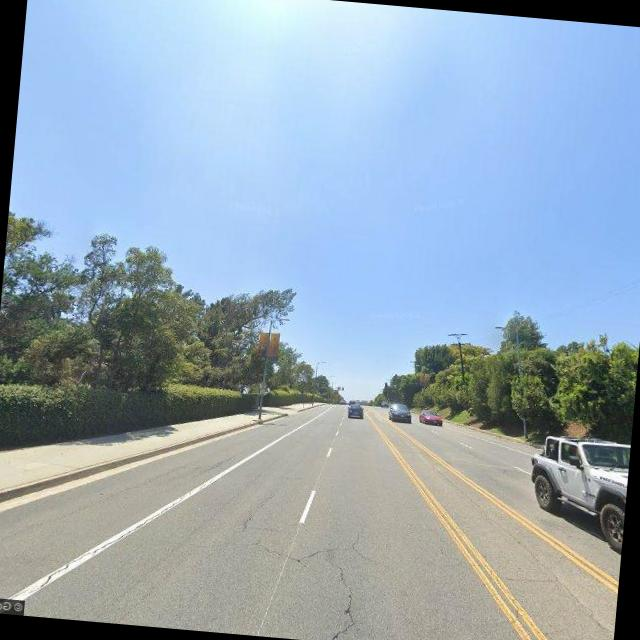crack: (236, 507, 386, 640)
pothole: (39, 479, 184, 596), (238, 486, 278, 535)
